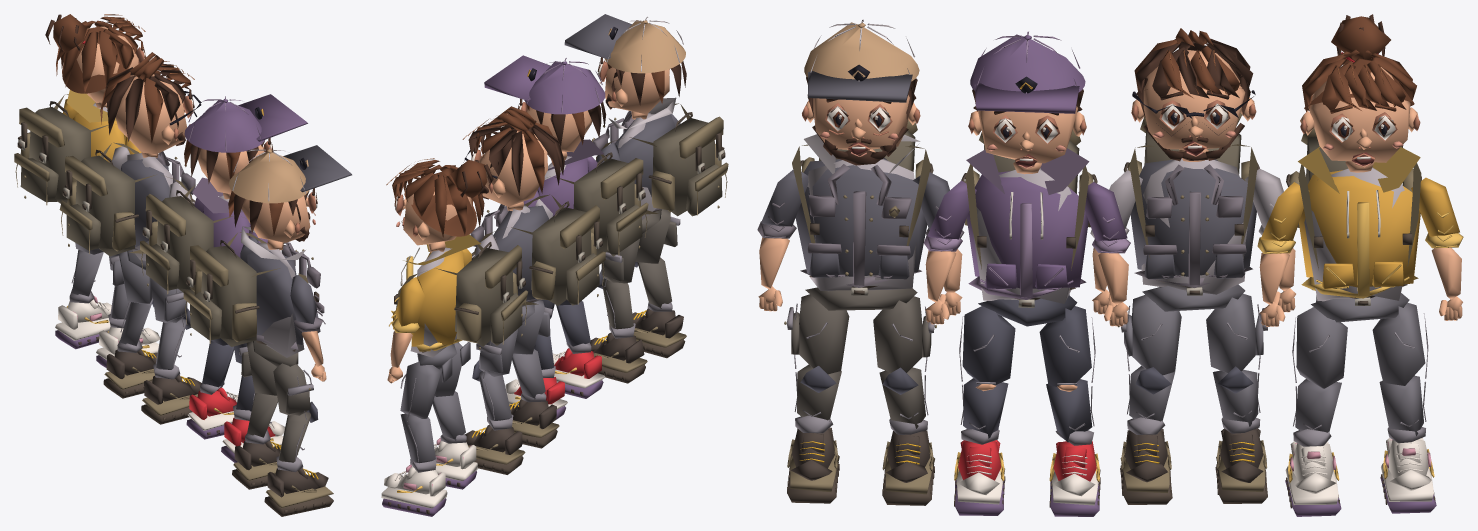
The model's file is npc.survivor-group.lod1.glb.
3 renders of one model, left to right at view 1: azimuth 30°, elevation 25°; view 2: azimuth 150°, elevation 25°; view 3: azimuth 270°, elevation 25°, orthographic. The views are drawn at different scales.
Parts seen in each view (by area): view 1: head, survivor03_head, survivor02_head, survivor03_backpackSocket_mesh, backpackSocket_mesh, survivor04_head, torso, survivor04_backpackSocket_mesh, survivor02_backpackSocket_mesh, survivor03_torso, footR, survivor03_footR (+23 smaller); view 2: head, survivor02_head, survivor04_head, survivor03_head, backpackSocket_mesh, survivor03_backpackSocket_mesh, survivor04_backpackSocket_mesh, survivor02_backpackSocket_mesh, survivor04_torso, torso, survivor03_torso, survivor04_footL (+25 smaller); view 3: torso, survivor02_torso, survivor04_torso, survivor03_torso, head, survivor04_head, survivor03_head, survivor02_head, survivor04_footL, survivor02_footR, survivor02_footL, survivor04_footR (+41 smaller).
Part boxes in pixels (x1,y1,x2,y2): head: [228, 145, 351, 250]; survivor03_head: [100, 52, 201, 157]; survivor02_head: [184, 94, 307, 199]; survivor03_backpackSocket_mesh: [59, 149, 138, 256]; backpackSocket_mesh: [183, 240, 259, 346]; survivor04_head: [45, 14, 146, 108]; torso: [225, 226, 324, 357]; survivor04_backpackSocket_mesh: [14, 101, 90, 205]; survivor02_backpackSocket_mesh: [140, 190, 213, 295]; survivor03_torso: [100, 142, 195, 260]; footR: [264, 468, 333, 516]; survivor03_footR: [141, 375, 201, 424]; head: [564, 14, 686, 119]; survivor02_head: [484, 55, 606, 159]; survivor04_head: [386, 158, 493, 252]; survivor03_head: [462, 106, 564, 210]; backpackSocket_mesh: [648, 112, 728, 216]; survivor03_backpackSocket_mesh: [529, 201, 605, 305]; survivor04_backpackSocket_mesh: [454, 242, 527, 346]; survivor02_backpackSocket_mesh: [573, 152, 648, 256]; survivor04_torso: [391, 234, 483, 357]; torso: [592, 97, 689, 220]; survivor03_torso: [470, 194, 563, 306]; survivor04_footL: [381, 464, 447, 516]; torso: [792, 134, 930, 291]; survivor02_torso: [966, 148, 1089, 303]; survivor04_torso: [1298, 147, 1421, 301]; survivor03_torso: [1129, 144, 1257, 294]; head: [802, 19, 920, 165]; survivor04_head: [1300, 14, 1420, 172]; survivor03_head: [1131, 28, 1256, 161]; survivor02_head: [968, 31, 1086, 174]; survivor04_footL: [1380, 437, 1436, 513]; survivor02_footR: [954, 440, 1005, 515]; survivor02_footL: [1049, 441, 1100, 516]; survivor04_footR: [1285, 441, 1341, 516].
Bounding box in the file's own units: 0.8552 × 1.77 × 2.48.
